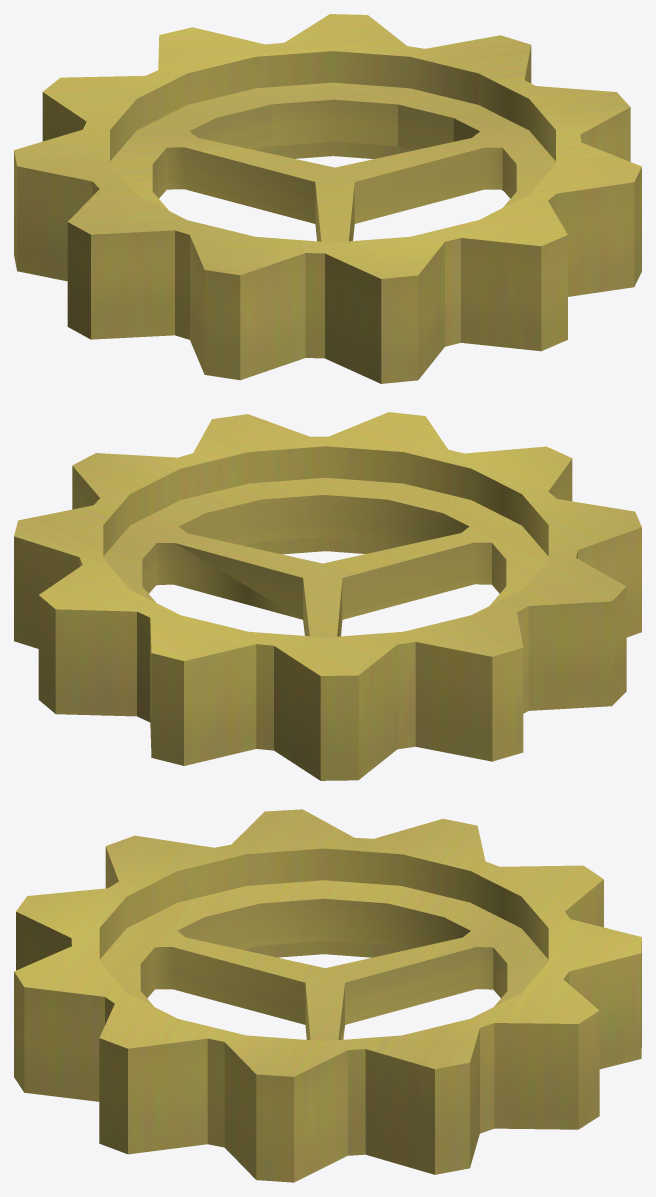
File: CogInset3Spoke011.fbx
The picture shows the model from 3 angles, top to bottom: view 1: azimuth 30°, elevation 25°; view 2: azimuth 150°, elevation 25°; view 3: azimuth 270°, elevation 25°; orthographic projection.
Parts seen in each view (by area): view 1: CogInset3Spoke011; view 2: CogInset3Spoke011; view 3: CogInset3Spoke011.
Part boxes in pixels (x1=…): CogInset3Spoke011: x1=14, y1=14, x2=641, y2=383; CogInset3Spoke011: x1=14, y1=412, x2=641, y2=780; CogInset3Spoke011: x1=14, y1=809, x2=641, y2=1182.
Size of the model in its own units: 107 by 19.69 by 106.
